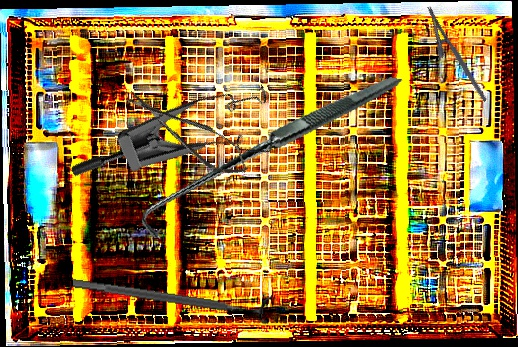Fixation Ring: (70, 267, 273, 327)
Hook Surgical: (139, 32, 403, 282)
Micro Scissor: (120, 77, 256, 187)
Needle Holder: (414, 5, 488, 110)
Speculum: (67, 50, 297, 251)
